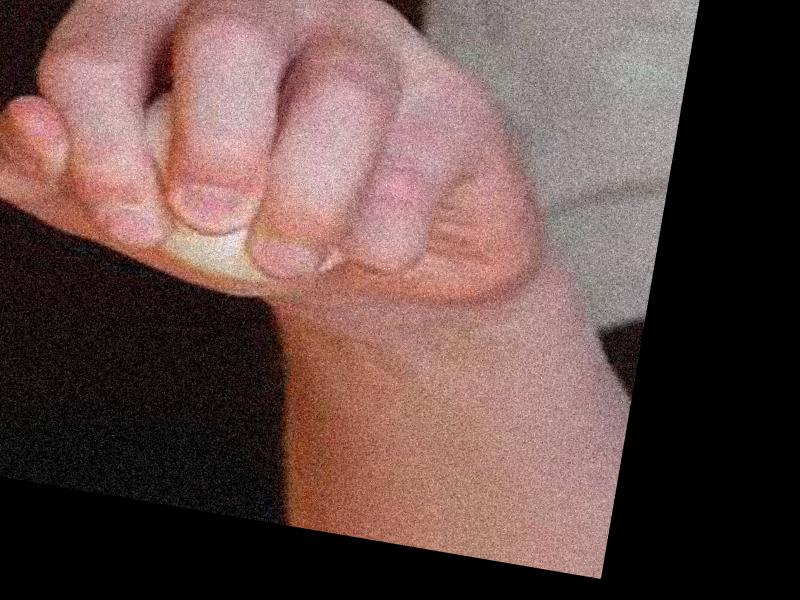Eggs: (92, 80, 368, 298)
